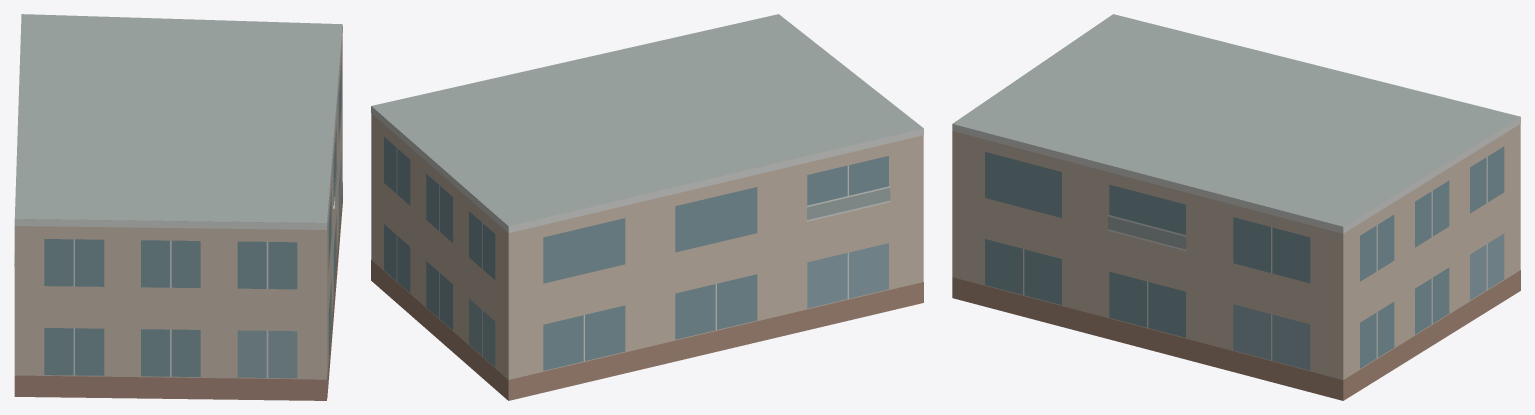
File: survey-upis-32771623.glb
3 views of the same model, side by side, from view 1: azimuth 30°, elevation 25°; view 2: azimuth 150°, elevation 25°; view 3: azimuth 270°, elevation 25° (orthographic). The views are drawn at different scales.
Visible parts, largest first — view 1: survey-upis-32771623.tmp; view 2: survey-upis-32771623.tmp; view 3: survey-upis-32771623.tmp.
Boxes of the visible parts, x1,y1,x2,y2 form: survey-upis-32771623.tmp: [14, 14, 342, 400]; survey-upis-32771623.tmp: [371, 14, 923, 400]; survey-upis-32771623.tmp: [952, 14, 1520, 400].
Size of the model in its own units: 15.99 by 6.1 by 18.06.
